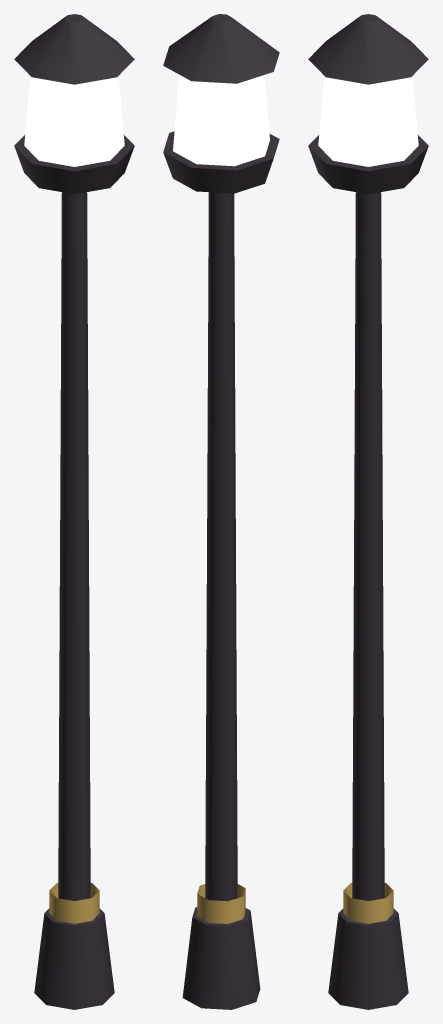
Rendered from monatium_streetlamp.glb.
3 renders of one model, left to right at view 1: azimuth 90°, elevation 25°; view 2: azimuth 150°, elevation 25°; view 3: azimuth 270°, elevation 25°, orthographic.
Parts seen in each view (by area): view 1: monatium_streetlamp_dark_detail, monatium_streetlamp_lamp_off_fine, monatium_streetlamp_gold_detail; view 2: monatium_streetlamp_dark_detail, monatium_streetlamp_lamp_off_fine, monatium_streetlamp_gold_detail; view 3: monatium_streetlamp_dark_detail, monatium_streetlamp_lamp_off_fine, monatium_streetlamp_gold_detail.
Boxes of the visible parts, x1,y1,x2,y2 form: monatium_streetlamp_dark_detail: [14, 14, 134, 1009]; monatium_streetlamp_lamp_off_fine: [24, 76, 124, 166]; monatium_streetlamp_gold_detail: [49, 883, 99, 923]; monatium_streetlamp_dark_detail: [163, 14, 279, 1009]; monatium_streetlamp_lamp_off_fine: [173, 75, 269, 166]; monatium_streetlamp_gold_detail: [197, 884, 245, 923]; monatium_streetlamp_dark_detail: [308, 14, 428, 1009]; monatium_streetlamp_lamp_off_fine: [318, 76, 418, 166]; monatium_streetlamp_gold_detail: [343, 883, 393, 923].
Size of the model in its own units: 0.48 by 4.28 by 0.48.
